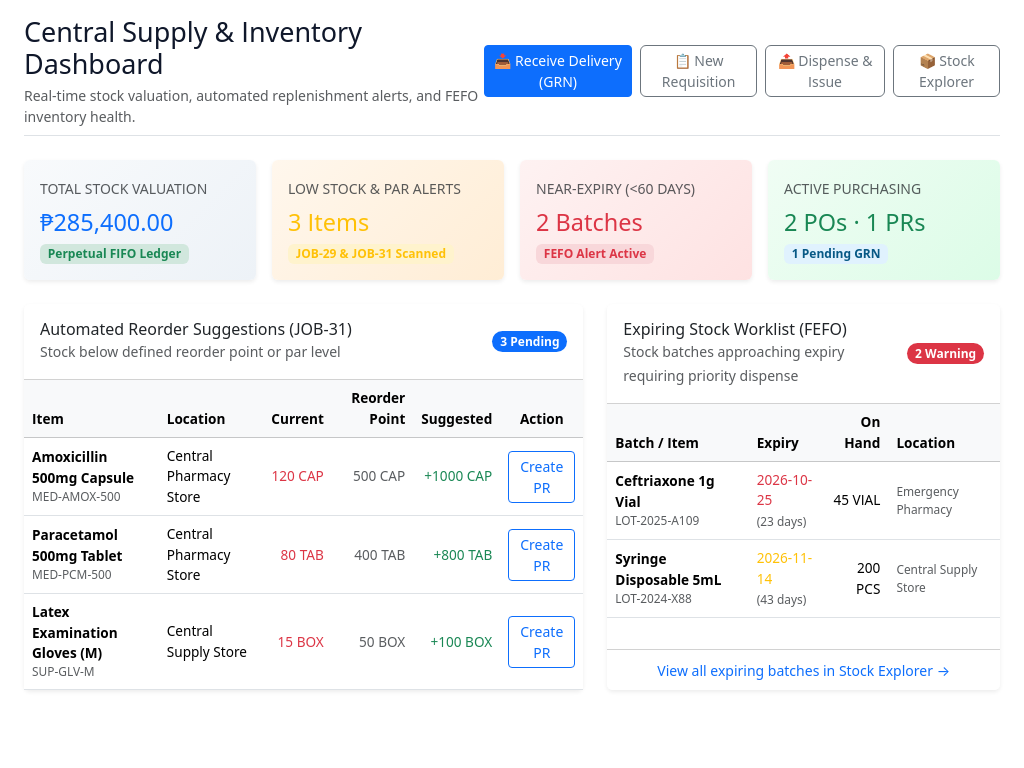
Test: SupplyDashboardPage (todo §4.5, SUP-T1) › creates a draft PR from automated reorder suggestions
The image size is (1024, 768).
Click the button with aria-label "Create PR for Amoxicillin 500mg Capsule": {"x": 542, "y": 476} [508, 450, 575, 502]
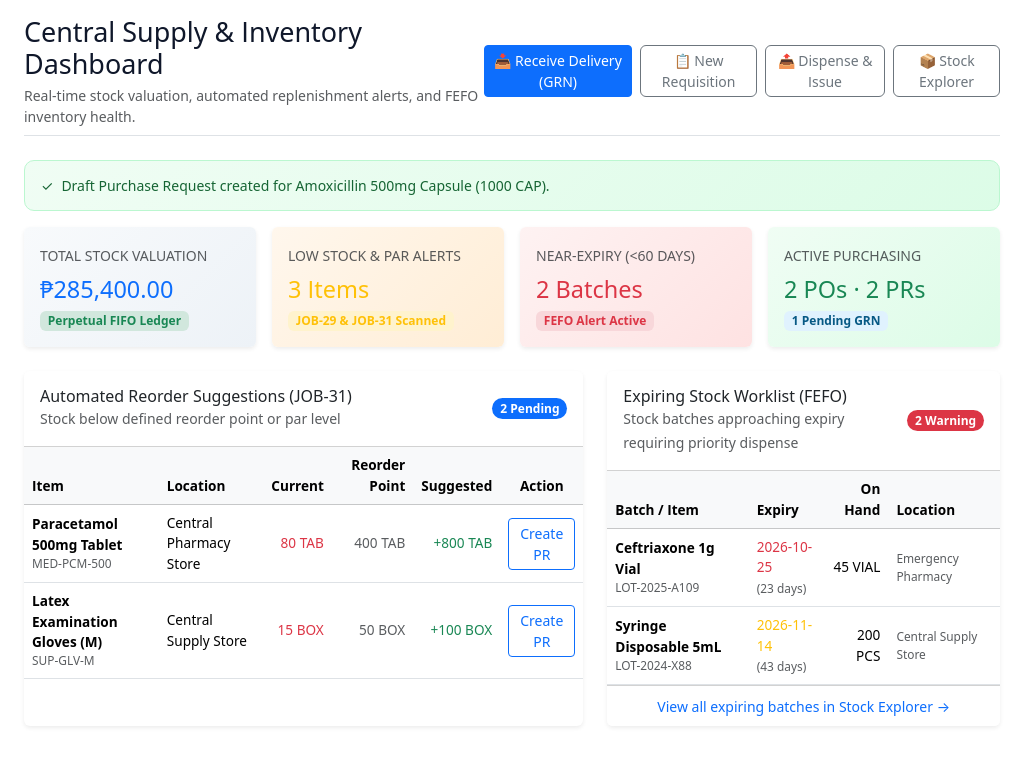
Expected: the text "Draft Purchase Request created" is shown, [61, 176, 550, 195]
